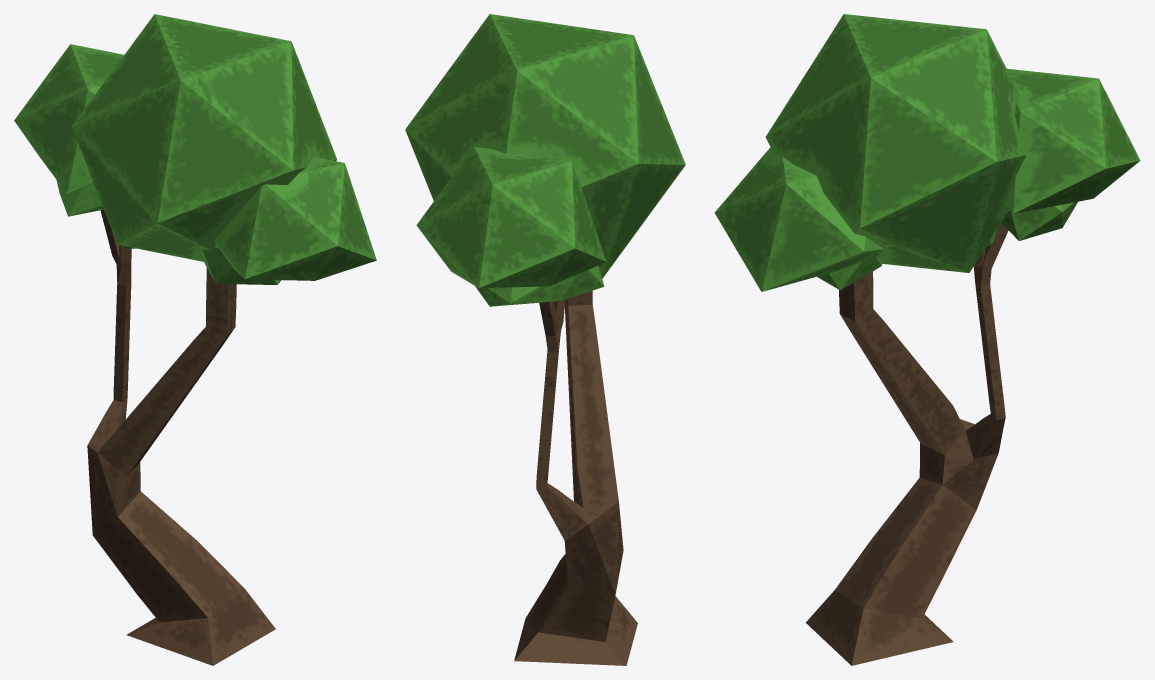
Rendered from SM_Tree_Forest_02.fbx.
The picture shows the model from 3 angles, left to right: view 1: azimuth 30°, elevation 25°; view 2: azimuth 150°, elevation 25°; view 3: azimuth 270°, elevation 25°; orthographic projection. The views are drawn at different scales.
Visible parts, largest first — view 1: Icosphere.042; view 2: Icosphere.042; view 3: Icosphere.042.
Part boxes in pixels (left/top/right/bottom): Icosphere.042: left=14, top=14, right=376, bottom=665; Icosphere.042: left=405, top=14, right=685, bottom=665; Icosphere.042: left=714, top=14, right=1140, bottom=665.
Bounding box in the file's own units: 94.95 × 239 × 152.
1 material, 1 textured.
